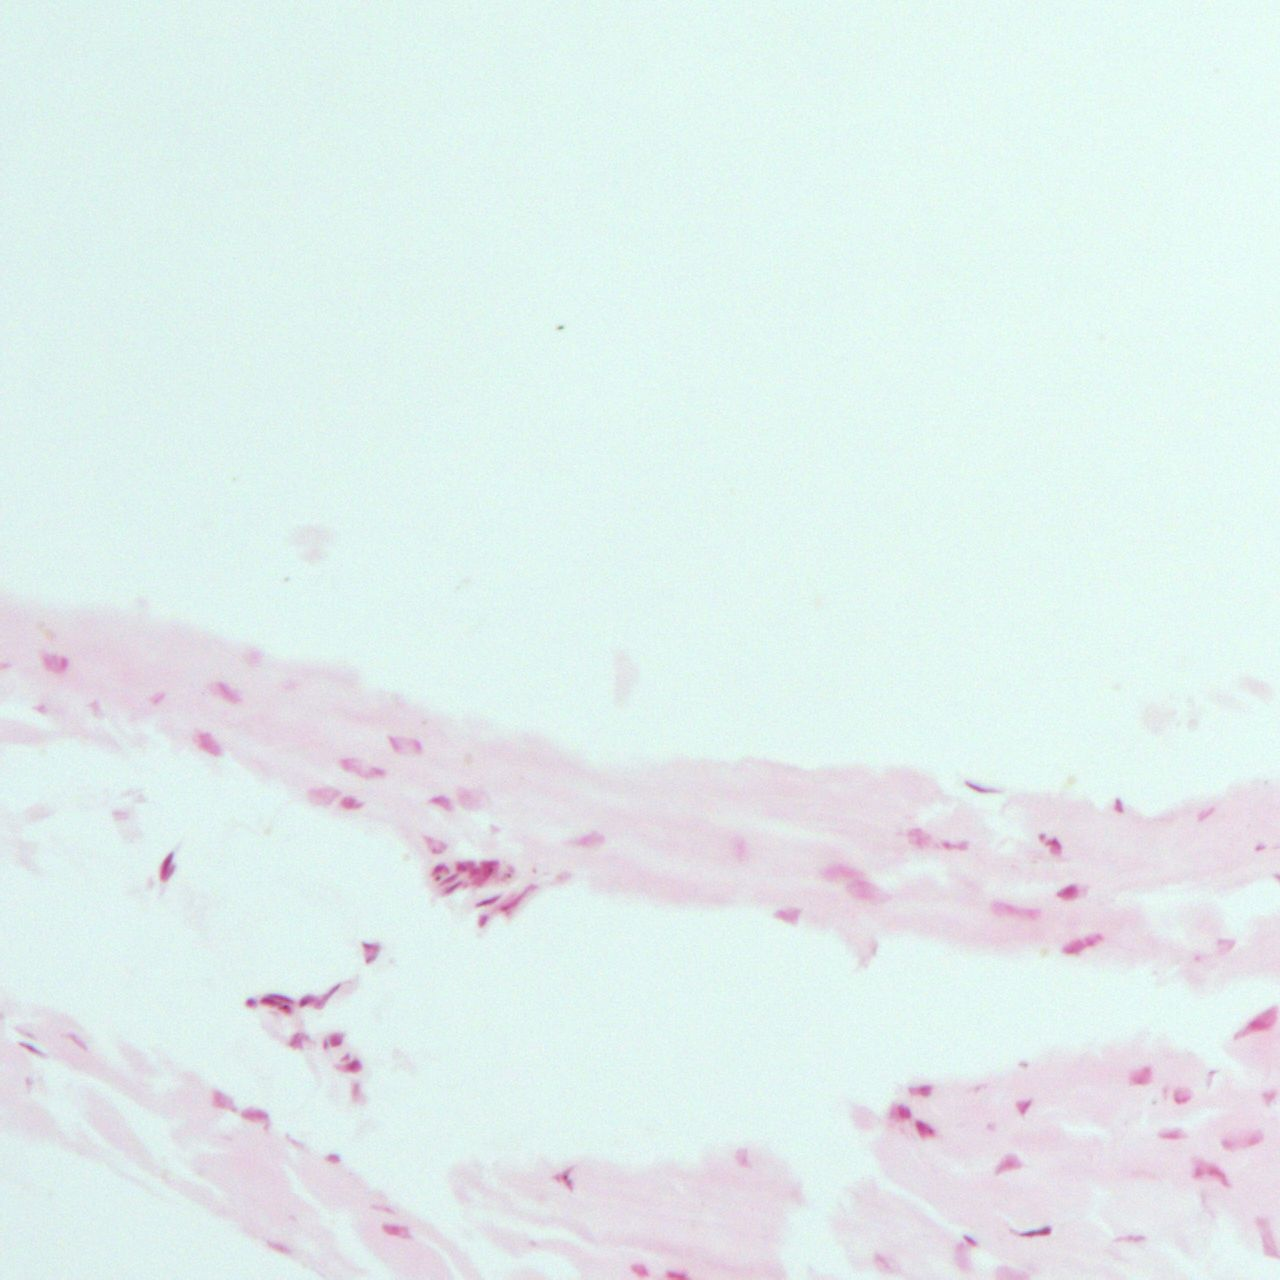dust: (556, 325, 564, 331)
nucleus-AC: (499, 880, 538, 915), (1191, 1155, 1230, 1186), (192, 728, 224, 761), (551, 1166, 583, 1197), (819, 862, 864, 883), (154, 849, 181, 883), (313, 981, 342, 1010), (211, 678, 240, 706), (962, 777, 1001, 798), (992, 1149, 1021, 1173), (459, 787, 486, 812), (845, 881, 880, 900), (1054, 881, 1081, 905), (64, 1030, 91, 1053), (18, 1039, 47, 1058), (308, 787, 338, 806), (338, 792, 363, 815), (339, 757, 365, 778), (1060, 937, 1085, 958), (41, 653, 68, 673), (906, 828, 933, 847), (770, 905, 801, 922), (998, 1264, 1033, 1279), (1014, 1224, 1051, 1238), (338, 1057, 363, 1077), (990, 900, 1021, 917), (286, 1029, 308, 1051), (265, 1238, 291, 1257), (423, 832, 445, 853), (239, 1107, 268, 1122), (954, 1242, 971, 1269), (212, 1091, 236, 1110), (428, 792, 452, 810), (1129, 1065, 1153, 1083), (15, 1026, 41, 1042), (1082, 931, 1104, 949), (1216, 938, 1238, 956), (381, 1223, 408, 1238), (576, 832, 602, 847), (386, 734, 404, 755), (915, 1119, 937, 1138), (268, 990, 295, 1005), (372, 1201, 399, 1216), (474, 894, 501, 908), (297, 990, 316, 1009), (1196, 804, 1216, 823), (362, 942, 380, 964), (442, 879, 463, 896), (961, 1231, 979, 1250), (733, 1148, 749, 1167), (438, 872, 458, 888), (1112, 1233, 1146, 1242), (245, 649, 261, 668), (88, 699, 103, 719), (939, 840, 971, 850), (1260, 1090, 1278, 1107), (258, 994, 277, 1009), (1157, 1129, 1187, 1138), (1218, 1133, 1237, 1149), (1172, 1088, 1191, 1103), (428, 864, 451, 876), (350, 1082, 363, 1103), (888, 1105, 910, 1118), (1246, 1130, 1262, 1146), (1014, 1098, 1032, 1114), (629, 1262, 648, 1276), (908, 1085, 933, 1096), (1048, 836, 1061, 856), (736, 837, 745, 864), (667, 1269, 689, 1280), (328, 1033, 343, 1047), (1024, 908, 1040, 920), (1205, 1069, 1216, 1085), (452, 860, 465, 873), (25, 1075, 34, 1092), (481, 860, 501, 869), (411, 738, 422, 754), (32, 703, 48, 713), (152, 692, 164, 704), (339, 1051, 352, 1063), (372, 767, 386, 777), (468, 867, 482, 877), (477, 915, 488, 927), (282, 681, 295, 690), (325, 1155, 339, 1163), (1114, 798, 1122, 812), (245, 998, 256, 1008), (490, 825, 502, 835), (1254, 843, 1265, 851), (1039, 833, 1047, 842)
